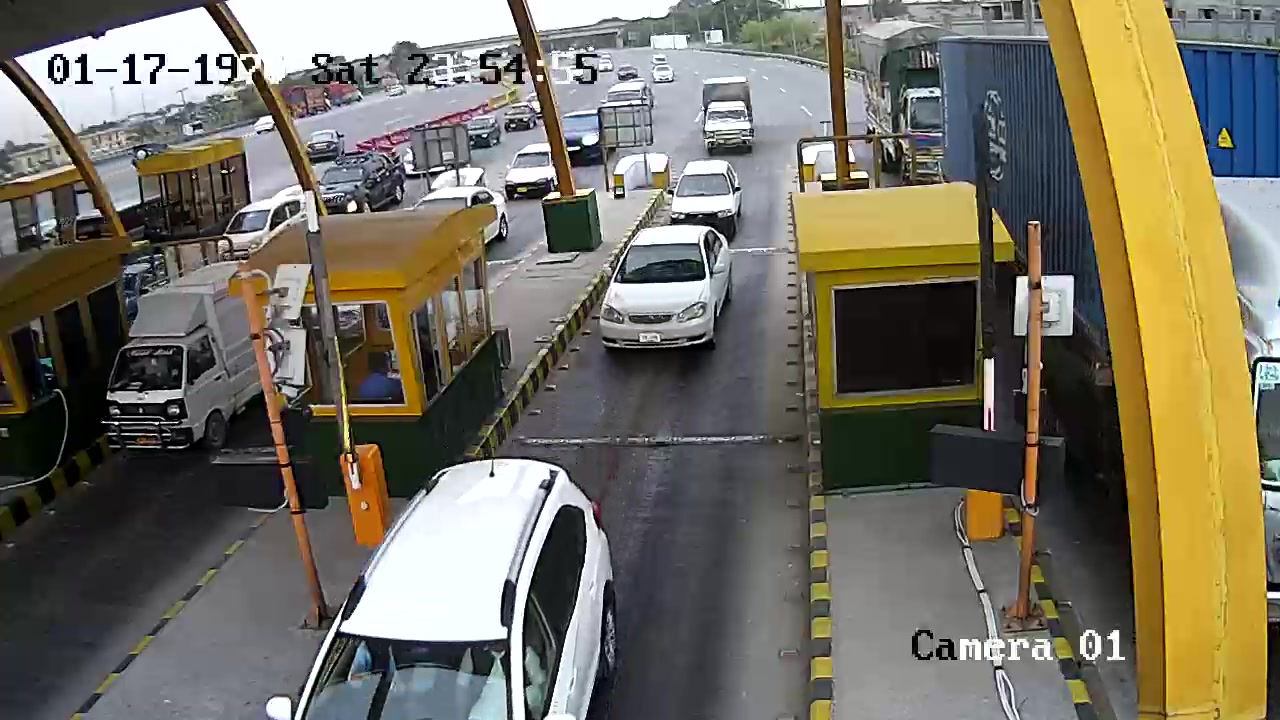F1: (590, 223, 739, 359)
